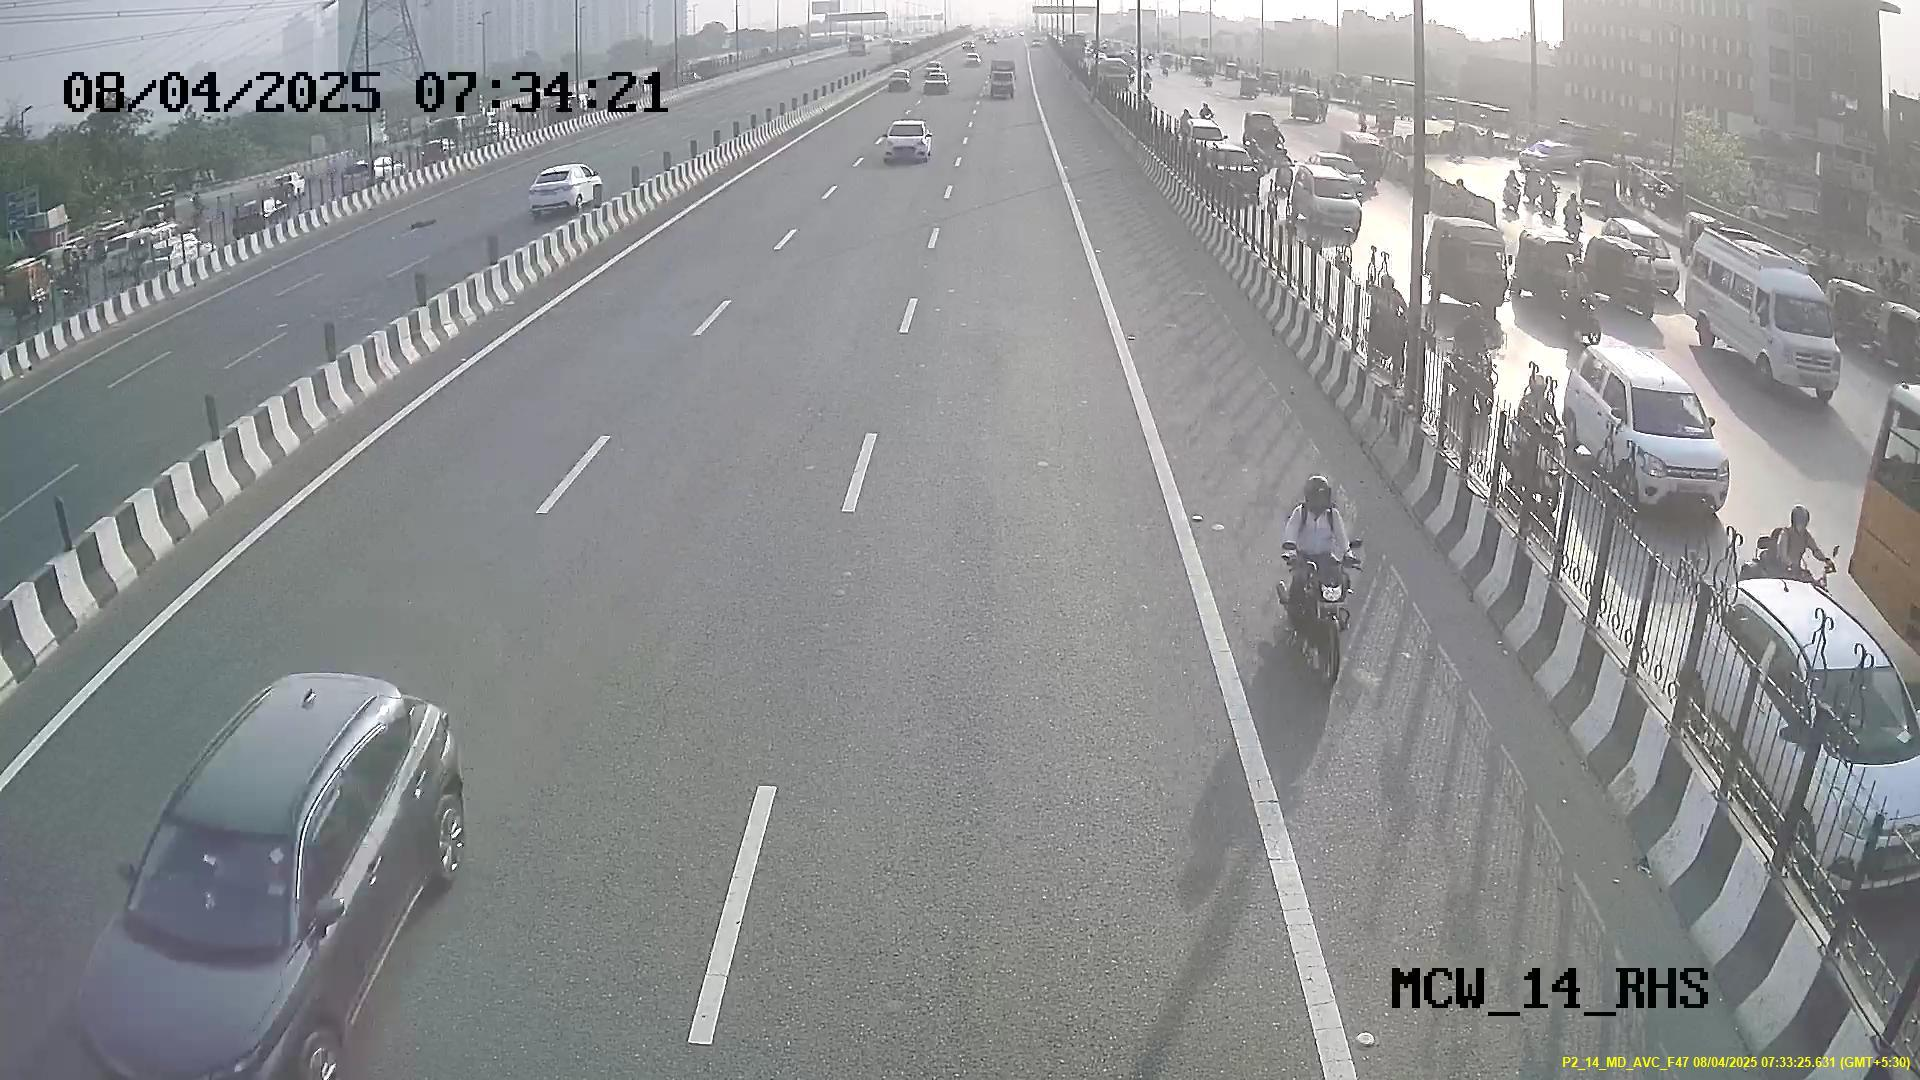bike: (1275, 468, 1365, 682)
